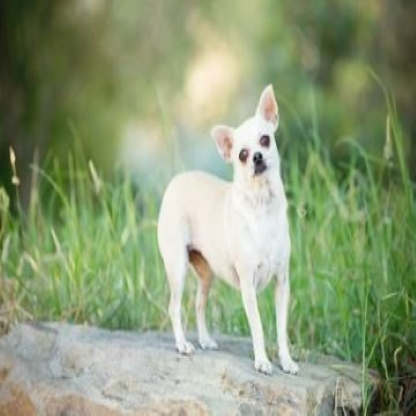chihuahua: (154, 81, 303, 377)
